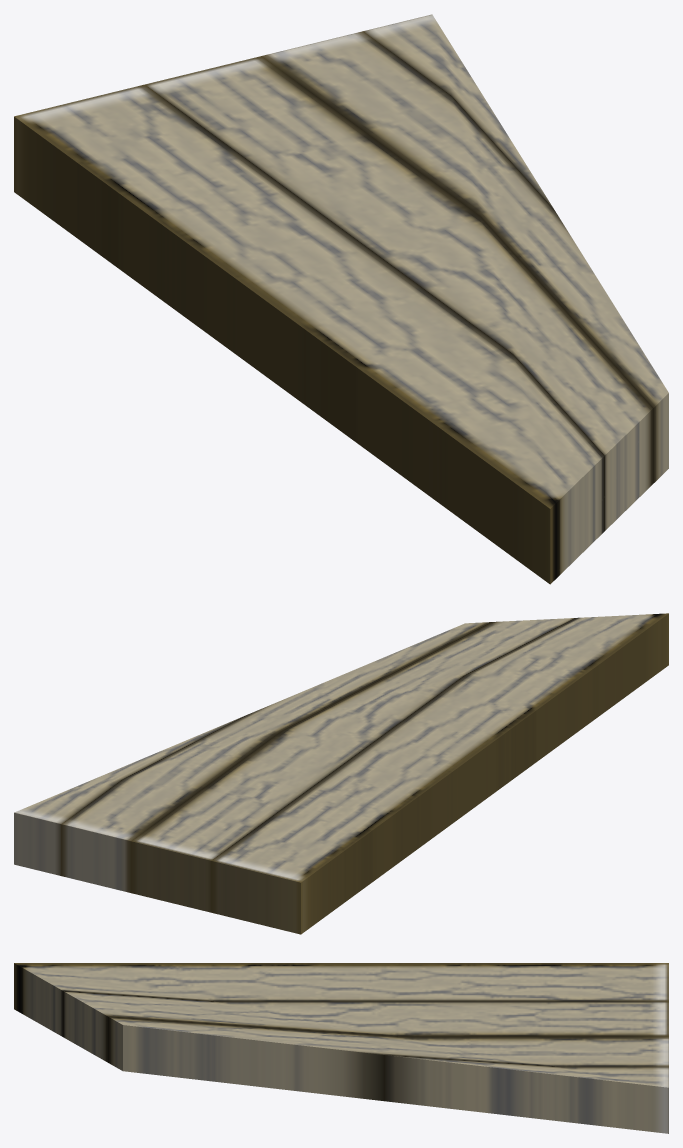
File: Crate_Piece2.fbx
The picture shows the model from 3 angles, top to bottom: view 1: azimuth 30°, elevation 25°; view 2: azimuth 150°, elevation 25°; view 3: azimuth 270°, elevation 25°; orthographic projection. The views are drawn at different scales.
Visible parts, largest first — view 1: pCube4; view 2: pCube4; view 3: pCube4.
Boxes of the visible parts, x1=… form: pCube4: x1=14, y1=14, x2=668, y2=584; pCube4: x1=14, y1=613, x2=668, y2=934; pCube4: x1=14, y1=963, x2=668, y2=1133.
Size of the model in its own units: 0.8107 by 0.1401 by 1.8.
